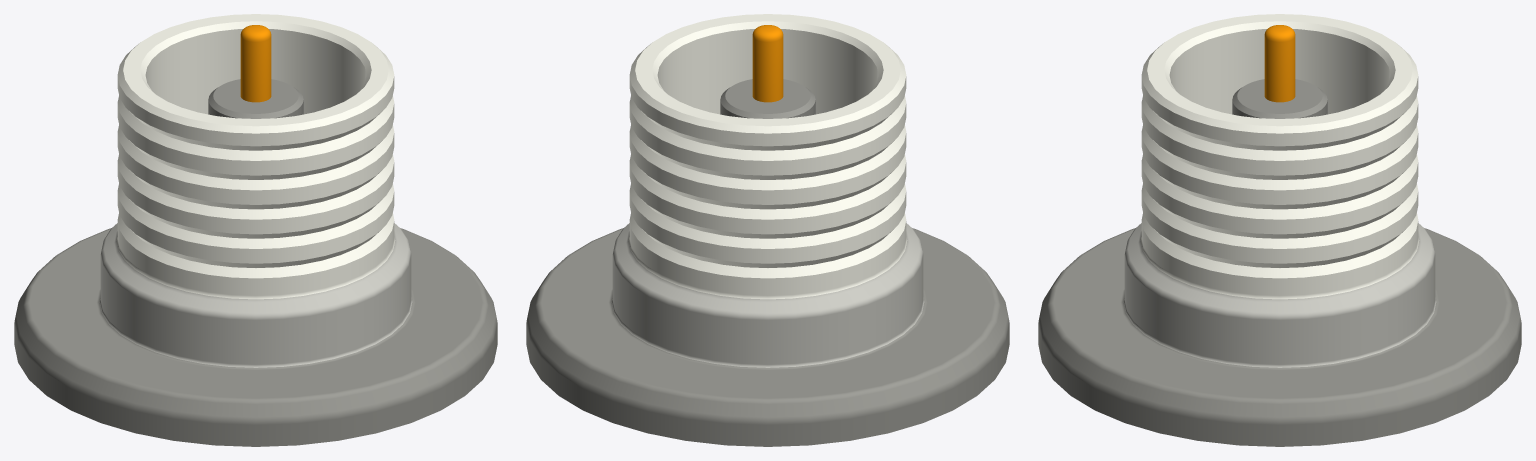
File: Coil #1.fbx
3 views of the same model, side by side, from view 1: azimuth 30°, elevation 25°; view 2: azimuth 150°, elevation 25°; view 3: azimuth 270°, elevation 25° (orthographic).
Parts seen in each view (by area): view 1: kitbash_97; view 2: kitbash_97; view 3: kitbash_97.
Boxes of the visible parts, box(x1,y1,x2,y2) form: kitbash_97: box(14, 14, 497, 446); kitbash_97: box(526, 14, 1009, 446); kitbash_97: box(1038, 14, 1521, 446).
Size of the model in its own units: 3 by 2.17 by 3.
